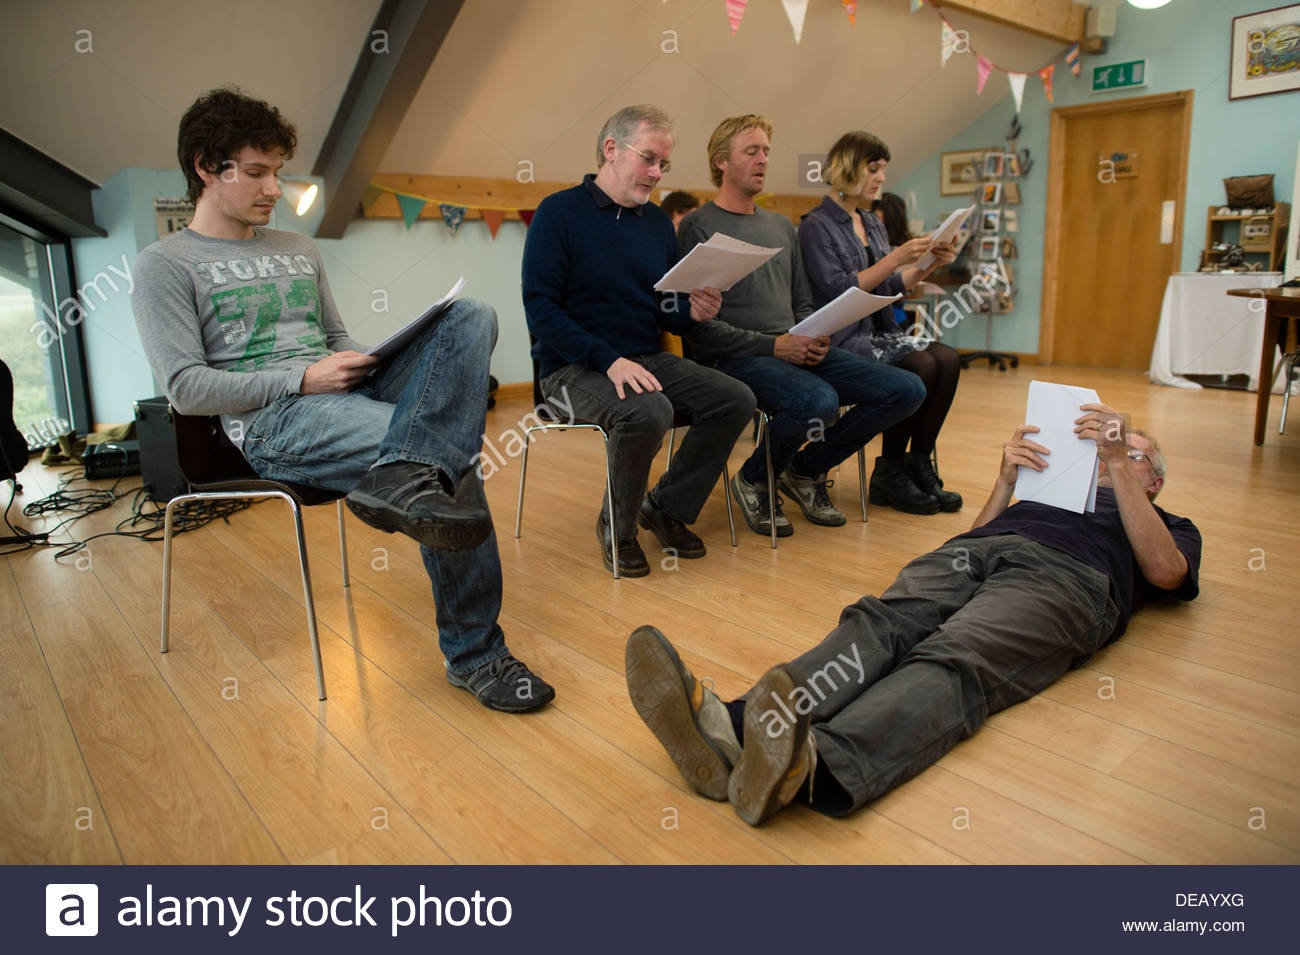bad: (229, 146, 303, 221), (728, 130, 780, 182)
